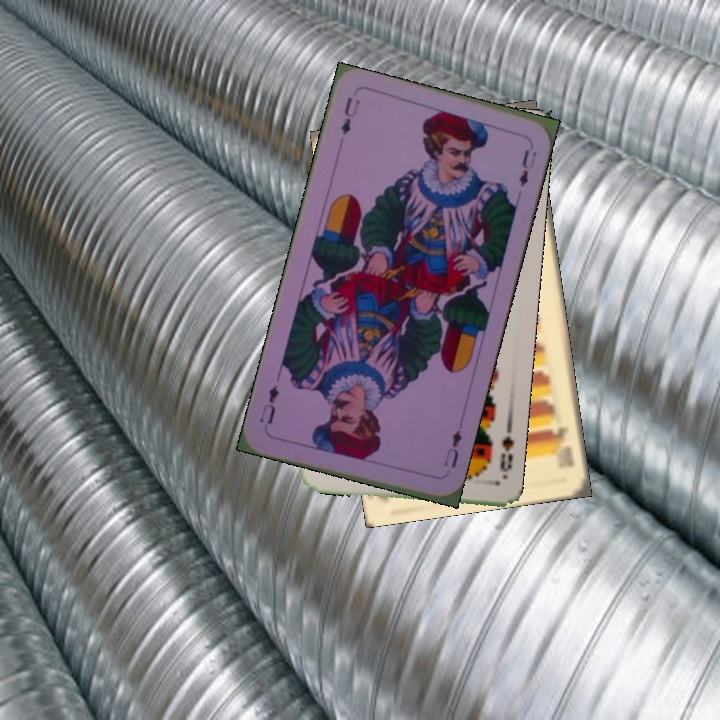E10: (547, 423, 576, 469)
EU: (336, 93, 363, 138), (439, 426, 464, 471)
S8: (496, 431, 516, 475)
